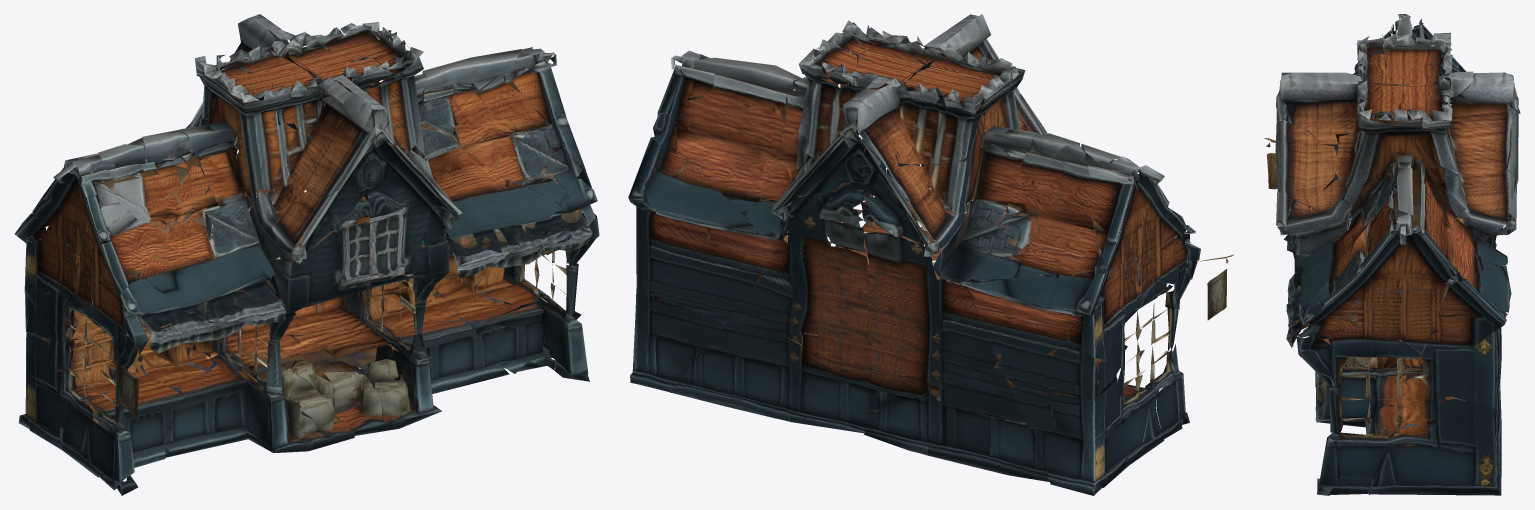
File: mesh_hearthmarket_stalls_a.glb
3 renders of one model, left to right at view 1: azimuth 30°, elevation 25°; view 2: azimuth 150°, elevation 25°; view 3: azimuth 270°, elevation 25°, orthographic. The views are drawn at different scales.
Parts seen in each view (by area): view 1: mesh_hearthmarket_stalls_a__mesh_hearthmarket_stalls_a__Mesh; view 2: mesh_hearthmarket_stalls_a__mesh_hearthmarket_stalls_a__Mesh; view 3: mesh_hearthmarket_stalls_a__mesh_hearthmarket_stalls_a__Mesh.
Boxes of the visible parts, <box> form: mesh_hearthmarket_stalls_a__mesh_hearthmarket_stalls_a__Mesh: <box>15,14,599,495</box>; mesh_hearthmarket_stalls_a__mesh_hearthmarket_stalls_a__Mesh: <box>628,14,1233,495</box>; mesh_hearthmarket_stalls_a__mesh_hearthmarket_stalls_a__Mesh: <box>1264,14,1520,495</box>.
Size of the model in its own units: 24 by 16.08 by 11.69.
Materials: 1 (1 with a texture image).
